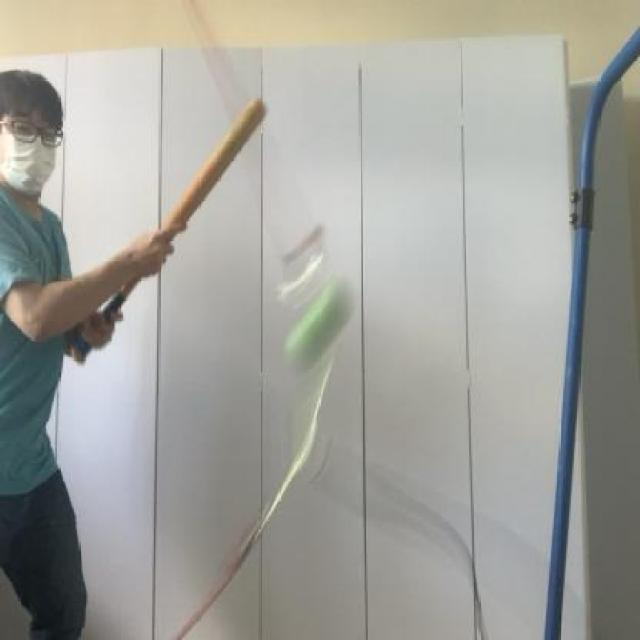baseball: (272, 264, 366, 370)
